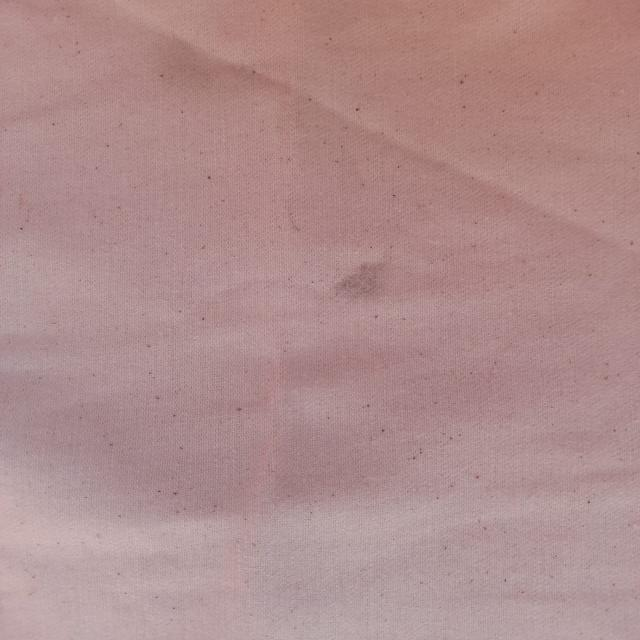taaaches: (329, 252, 411, 310)
